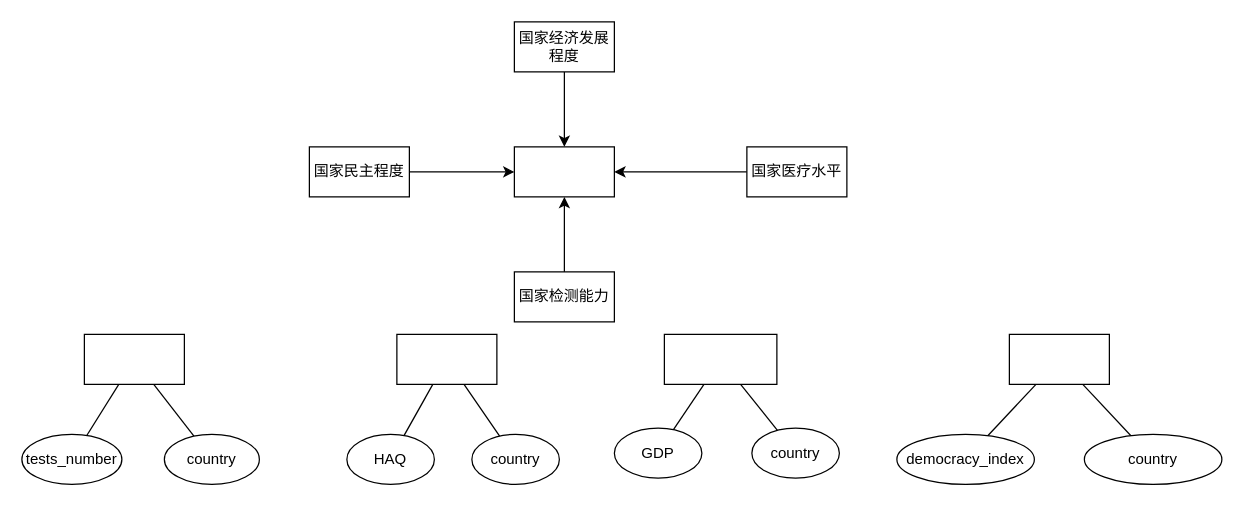
Image size: 1244x506. Some labels were removed from this diagram. Each missing label, with the centre of its shape:
Democracy: pixel 1058 358
Economic_level: pixel 720 358
Medical_level: pixel 446 358
Tests_ability: pixel 133 358
新冠疫情死亡情况: pixel 563 171
